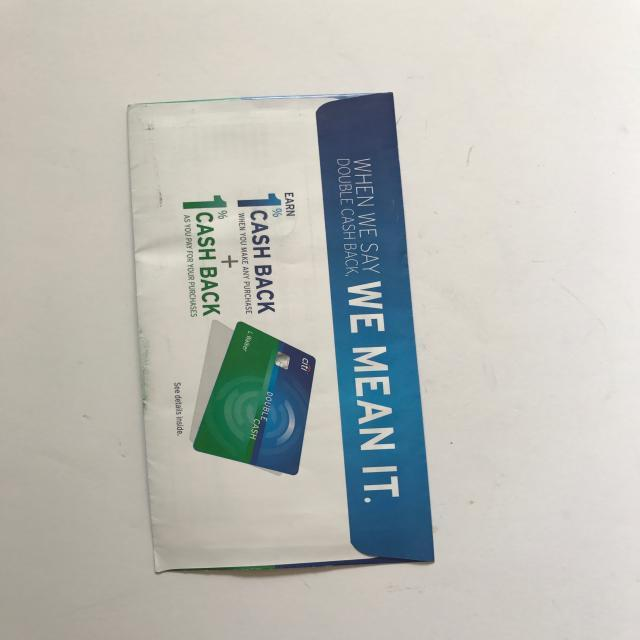paper: (118, 93, 442, 576)
